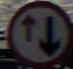Two way: (10, 10, 62, 56)
